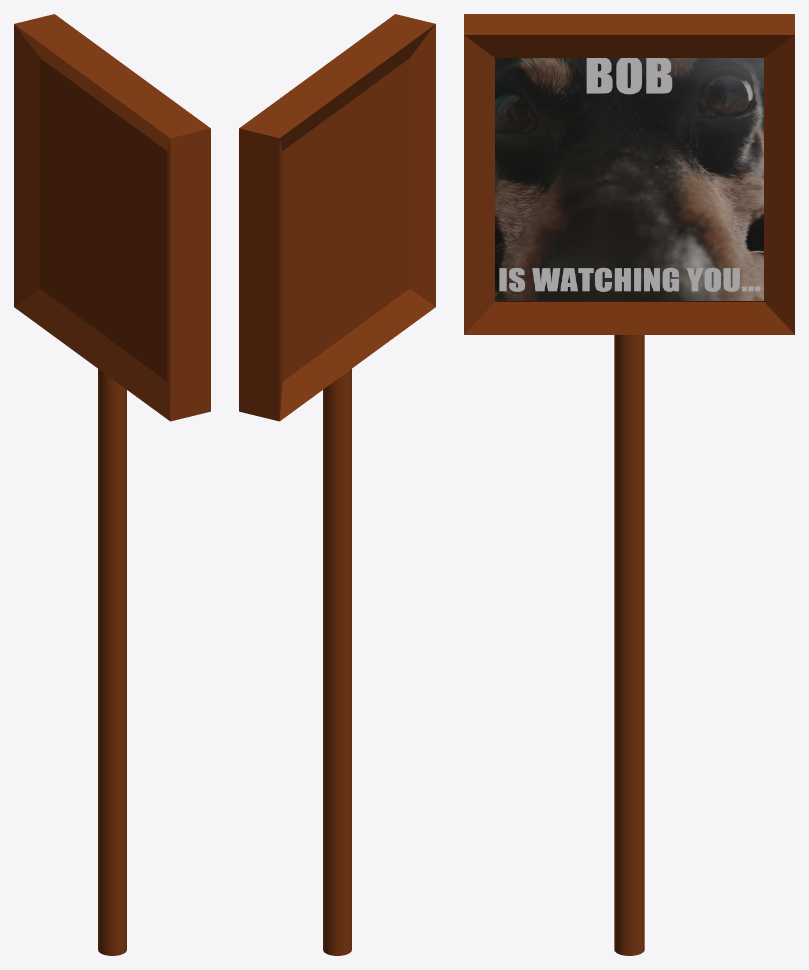
Rendered from BOOOOOOOB.fbx.
The picture shows the model from 3 angles, left to right: view 1: azimuth 30°, elevation 25°; view 2: azimuth 150°, elevation 25°; view 3: azimuth 270°, elevation 25°; orthographic projection. The views are drawn at different scales.
Parts seen in each view (by area): view 1: PLANE; view 2: PLANE; view 3: Plane, PLANE.
Part boxes in pixels (x1,y1,x2,y2): PLANE: [14, 14, 210, 955]; PLANE: [239, 14, 435, 955]; Plane: [495, 58, 763, 300]; PLANE: [464, 14, 794, 955].
Size of the model in its own units: 57.03 by 1173 by 380.
2 materials, 1 textured.
